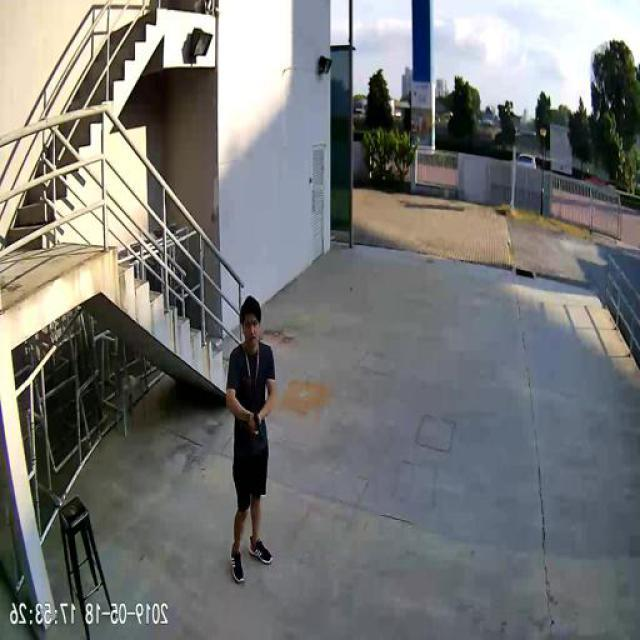Gun: (256, 409, 265, 440)
